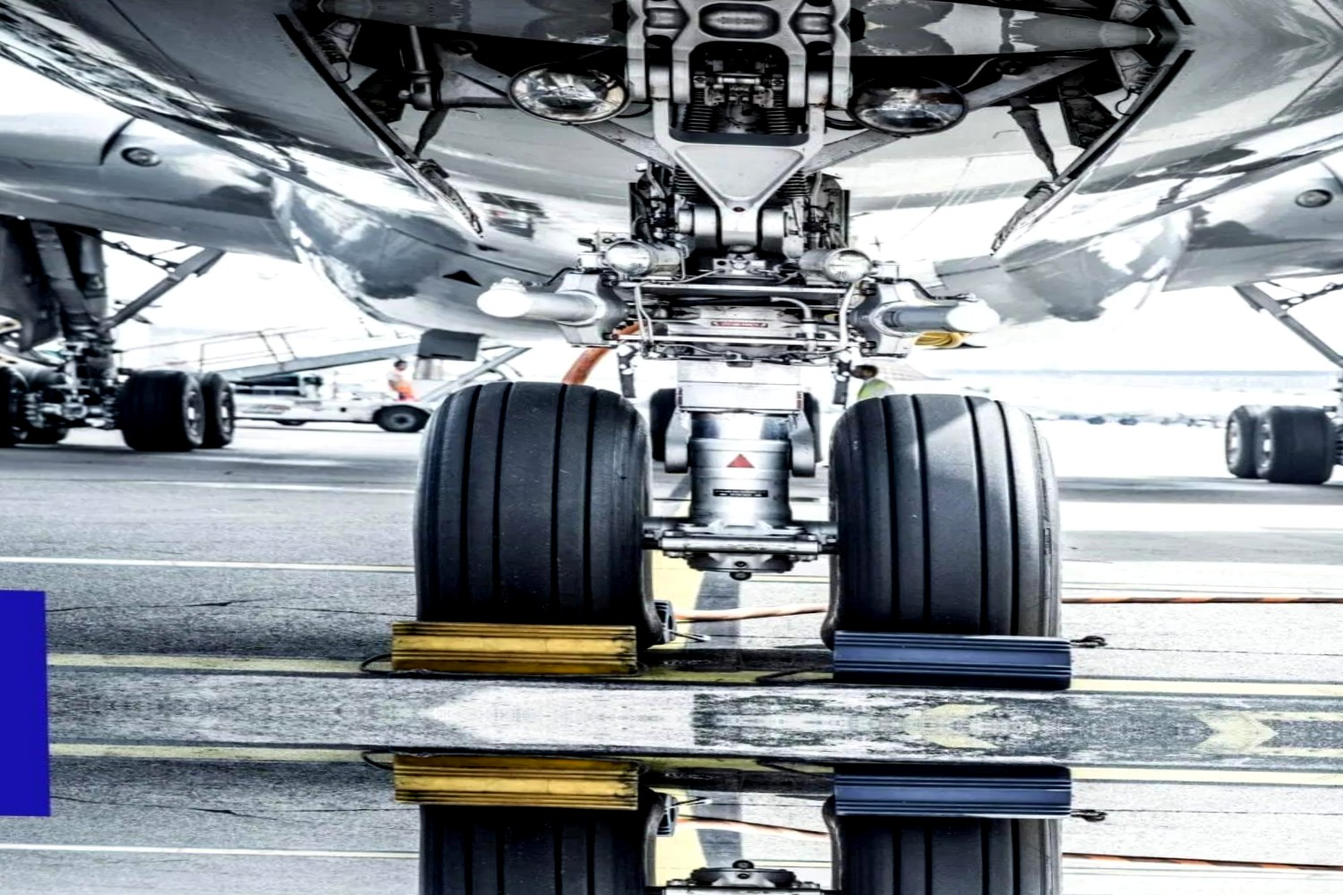chock: (826, 626, 1088, 694), (385, 616, 648, 683), (387, 748, 649, 814), (827, 759, 1088, 825)
wheel: (398, 381, 668, 652), (808, 391, 1063, 656), (404, 780, 667, 895), (811, 795, 1059, 895), (642, 385, 823, 477), (111, 367, 235, 452), (1256, 404, 1339, 485), (3, 369, 77, 444), (1219, 404, 1274, 479), (643, 385, 689, 471), (187, 373, 239, 449), (0, 363, 33, 447), (792, 390, 825, 469), (371, 403, 432, 434), (273, 418, 307, 426)
